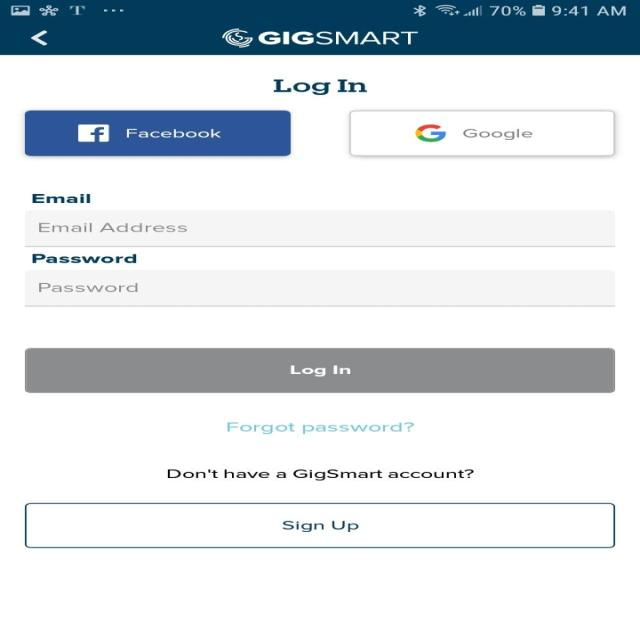EditText: (24, 210, 614, 247), (24, 270, 614, 306)
Icon: (31, 30, 47, 46)
Image: (222, 28, 252, 48)
Text: (166, 468, 474, 481), (226, 421, 414, 434), (258, 31, 418, 45), (273, 79, 367, 95), (39, 222, 188, 232), (39, 282, 139, 292), (32, 254, 137, 263), (33, 194, 90, 203)
TextButton: (24, 502, 614, 548), (24, 348, 614, 393), (348, 111, 614, 156), (25, 111, 291, 156)
